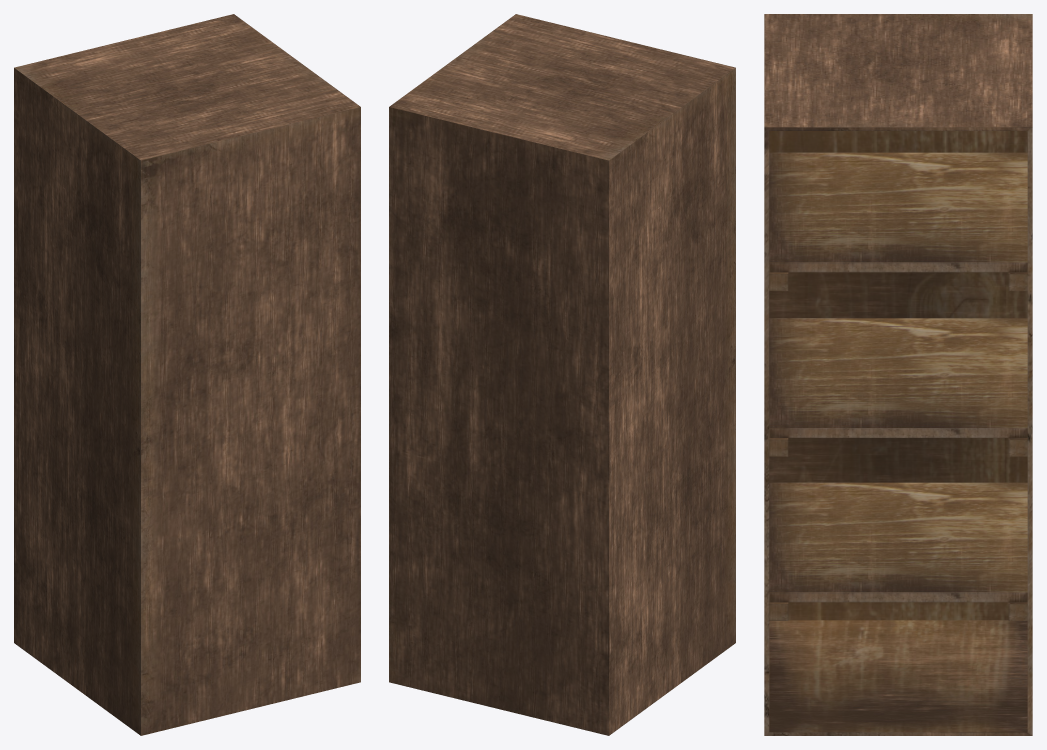
The model's file is wooden_shelf.glb.
3 renders of one model, left to right at view 1: azimuth 30°, elevation 25°; view 2: azimuth 150°, elevation 25°; view 3: azimuth 270°, elevation 25°, orthographic. The views are drawn at different scales.
Parts seen in each view (by area): view 1: wooden shelf; view 2: wooden shelf; view 3: wooden shelf.
Part boxes in pixels (x1=…): wooden shelf: x1=14, y1=14, x2=360, y2=735; wooden shelf: x1=389, y1=14, x2=735, y2=735; wooden shelf: x1=764, y1=14, x2=1032, y2=735.
Size of the model in its own units: 100 by 250 by 100.
1 material, 1 textured.
